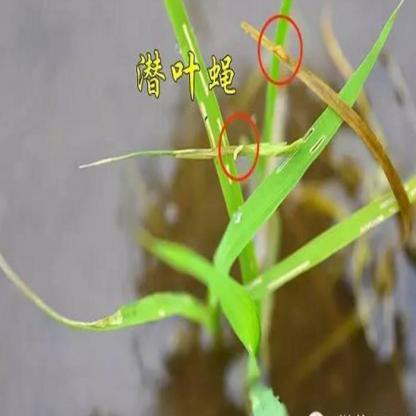whorl-maggot: (231, 137, 247, 168)
